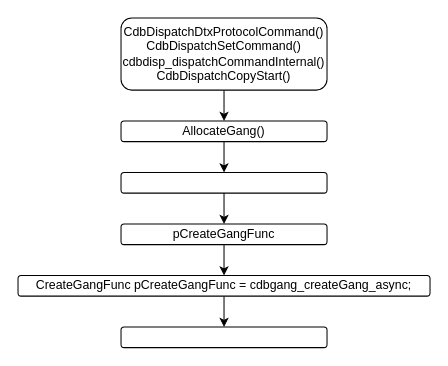
Image size: 448x366. Some labels were removed from this diagram. The shapes that lost their labels are listed below. From the top down, each one's box as (x1, y1, x2, y2) in pixels, then its label:
(120, 171, 327, 193): cdbgang_createGang()
(120, 326, 327, 348): cdbgang_createGang_async()
